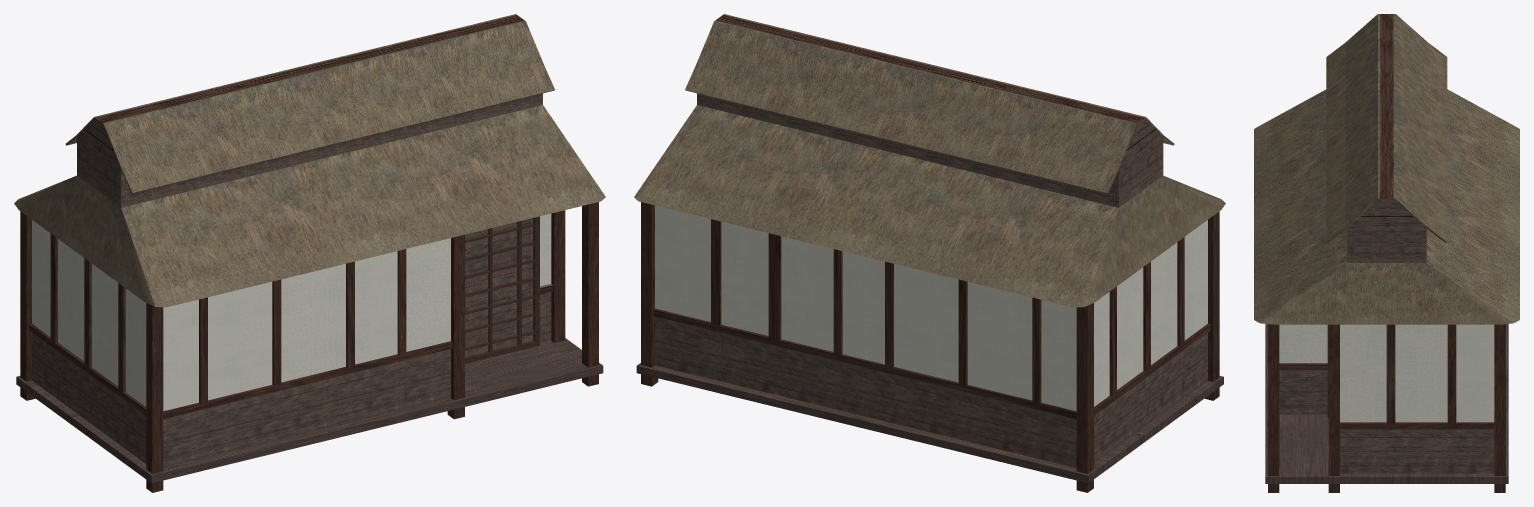
File: casa_aldea.fbx
3 renders of one model, left to right at view 1: azimuth 30°, elevation 25°; view 2: azimuth 150°, elevation 25°; view 3: azimuth 270°, elevation 25°, orthographic. The views are drawn at different scales.
Visible parts, largest first — view 1: tejado, pared, suelo, puerta, pilar_2, pilar_7, pilar_1, pilar_3, pilar_5; view 2: tejado, pared, suelo, pilar_3, pilar_4, pilar_2; view 3: tejado, pared, suelo, pilar_4, pilar_5, pilar_7.
Part boxes in pixels (x1,y1,x2,y2): tejado: [14, 14, 605, 307]; pared: [29, 213, 552, 468]; suelo: [16, 338, 603, 483]; puerta: [465, 216, 539, 363]; pilar_2: [146, 303, 163, 492]; pilar_7: [582, 202, 598, 386]; pilar_1: [447, 234, 464, 419]; pilar_3: [20, 211, 35, 400]; pilar_5: [551, 210, 565, 342]; tejado: [634, 14, 1225, 307]; pared: [653, 205, 1210, 468]; suelo: [636, 363, 1223, 483]; pilar_3: [1076, 303, 1093, 492]; pilar_4: [641, 202, 658, 386]; pilar_2: [1205, 211, 1219, 400]; tejado: [1254, 14, 1519, 324]; pared: [1279, 324, 1494, 473]; suelo: [1265, 324, 1508, 483]; pilar_4: [1494, 324, 1505, 492]; pilar_5: [1328, 324, 1339, 492]; pilar_7: [1268, 324, 1279, 492].
Size of the model in its own units: 419 by 282 by 235.
